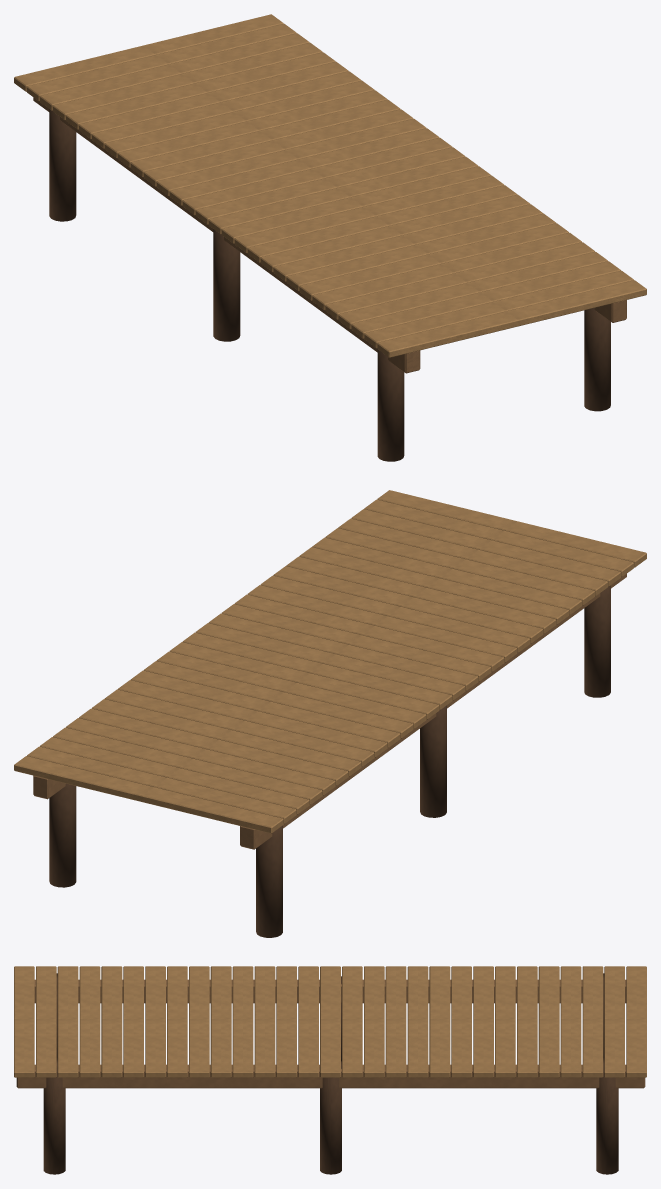
The model's file is river_dock.glb.
3 renders of one model, top to bottom at view 1: azimuth 30°, elevation 25°; view 2: azimuth 150°, elevation 25°; view 3: azimuth 270°, elevation 25°, orthographic. The views are drawn at different scales.
Visible parts, largest first — view 1: river_dock_Mesh; view 2: river_dock_Mesh; view 3: river_dock_Mesh.
Part boxes in pixels (bbox=[...]): river_dock_Mesh: bbox=[14, 14, 646, 461]; river_dock_Mesh: bbox=[14, 490, 646, 937]; river_dock_Mesh: bbox=[14, 966, 646, 1174].
Bounding box in the file's own units: 2 × 0.95 × 5.04.
Materials: 3 (3 with a texture image).
